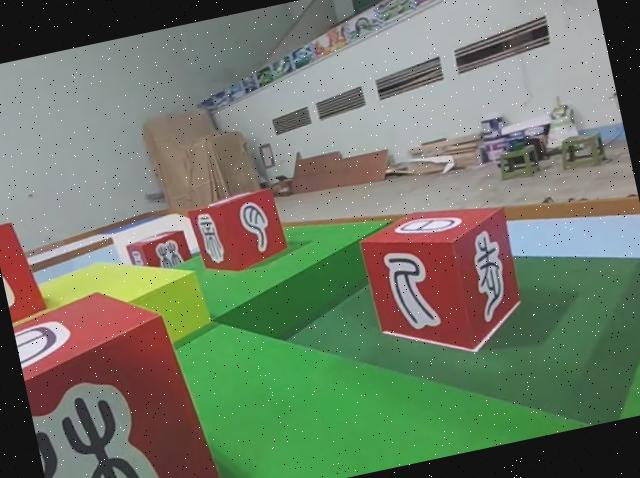R2 Fake: (7, 269, 227, 478), (357, 193, 528, 371), (189, 189, 291, 281), (0, 216, 50, 332), (125, 229, 190, 278)
